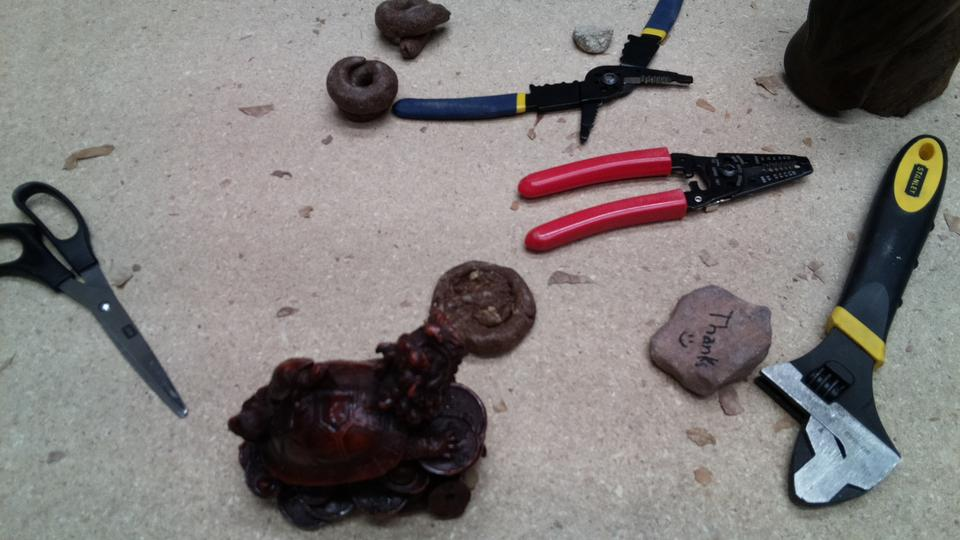poop: (427, 256, 538, 359), (322, 55, 402, 126), (372, 1, 454, 64)
